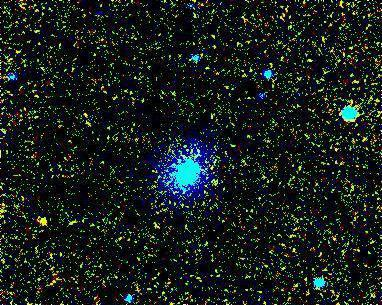star: (28, 208, 58, 238)
